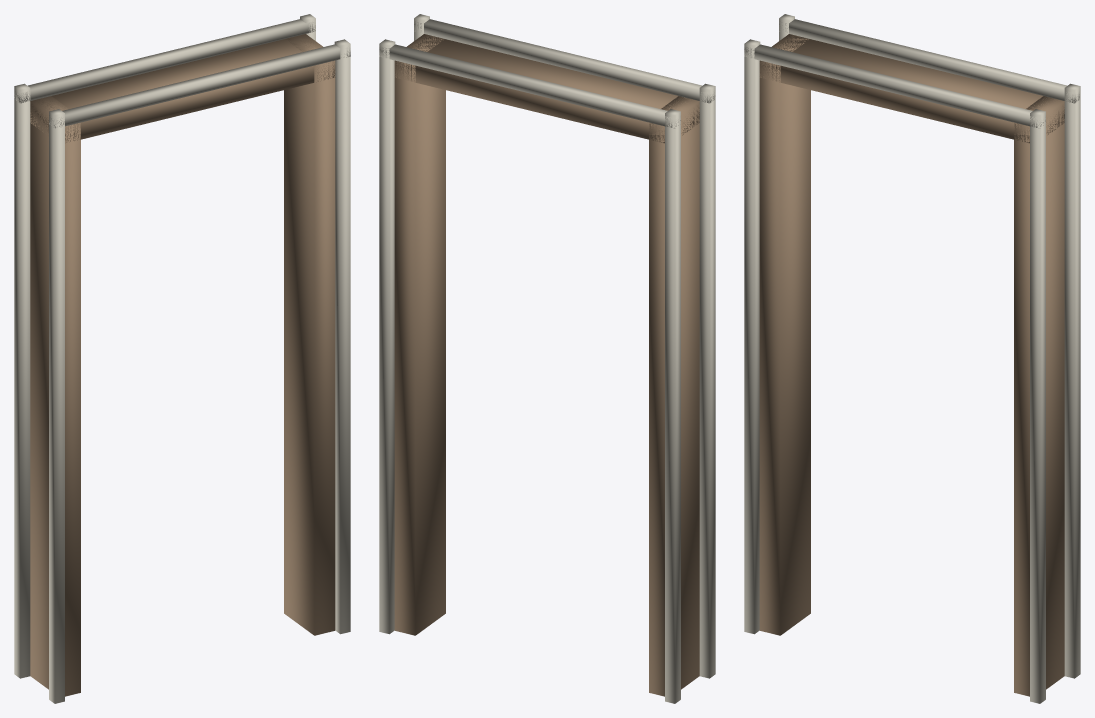
The model's file is doorway_painted_trim_w106_h240_d24.glb.
3 renders of one model, left to right at view 1: azimuth 30°, elevation 25°; view 2: azimuth 150°, elevation 25°; view 3: azimuth 330°, elevation 25°, orthographic.
Visible parts, largest first — view 1: world; view 2: world; view 3: world.
Part boxes in pixels (bbox=[...]): world: bbox=[14, 14, 350, 703]; world: bbox=[379, 14, 715, 703]; world: bbox=[744, 14, 1080, 703].
Size of the model in its own units: 1.34 by 2.55 by 0.3178.
